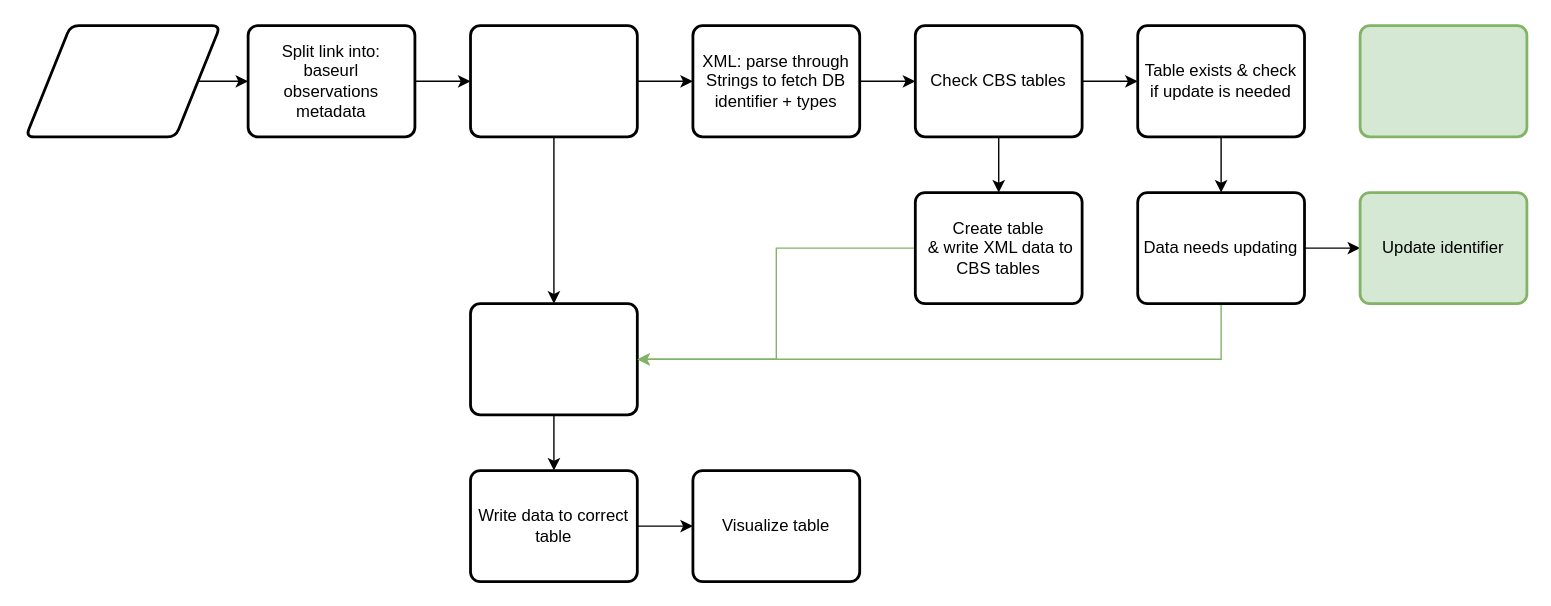
The diagram is 1551 pixels wide and 606 high, and some of its shapes have lost their labels. The shapes that lost their labels are listed below. From the top down, each one's box as (x1, y1, x2, y2) in pixels, then its label:
(24, 24, 221, 138): Link to CBS data
(468, 24, 638, 138): Fetch XML & JSON
(1358, 24, 1528, 138): Data up to date
(468, 302, 638, 416): JSON: Await confirmation from XML
